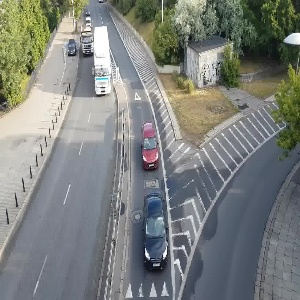car: (140, 184, 169, 272), (140, 118, 163, 172)
semi: (91, 25, 112, 101), (79, 24, 92, 57)
